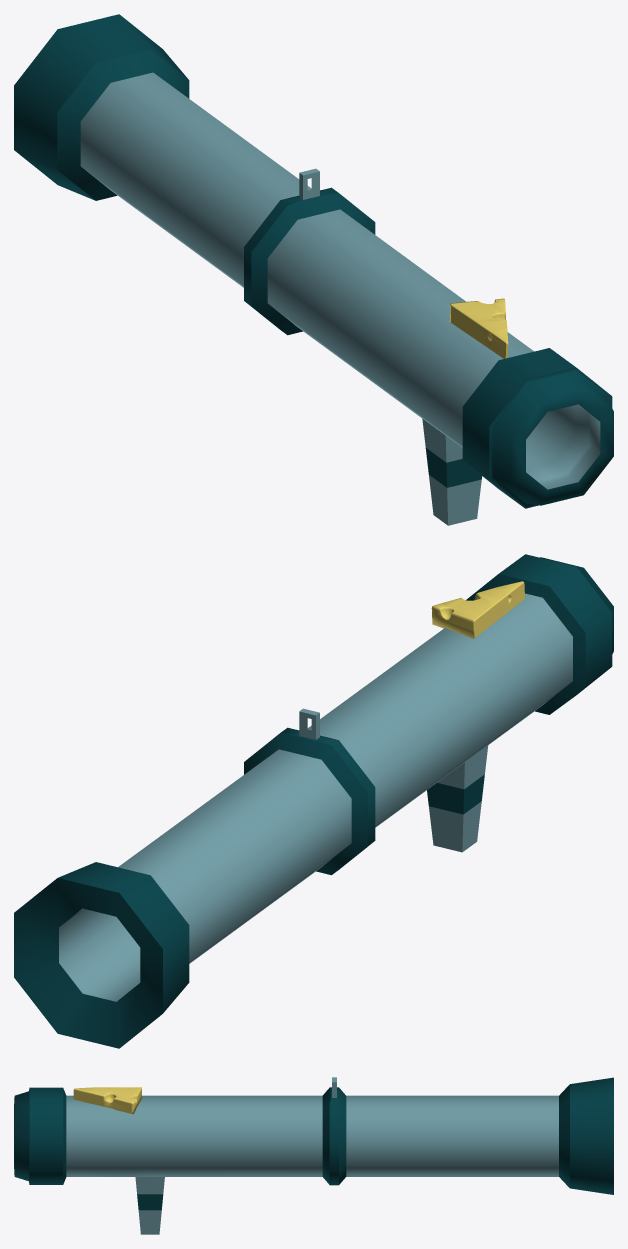
The model's file is HHg.fbx.
3 renders of one model, top to bottom at view 1: azimuth 30°, elevation 25°; view 2: azimuth 150°, elevation 25°; view 3: azimuth 270°, elevation 25°, orthographic. The views are drawn at different scales.
Parts seen in each view (by area): view 1: CheeseLauncher; view 2: CheeseLauncher; view 3: CheeseLauncher.
Boxes of the visible parts, x1=… form: CheeseLauncher: x1=14, y1=14, x2=613, y2=525; CheeseLauncher: x1=14, y1=554, x2=613, y2=1048; CheeseLauncher: x1=14, y1=1077, x2=613, y2=1234.
Bounding box in the file's own units: 3.38 × 5.17 × 18.66.
